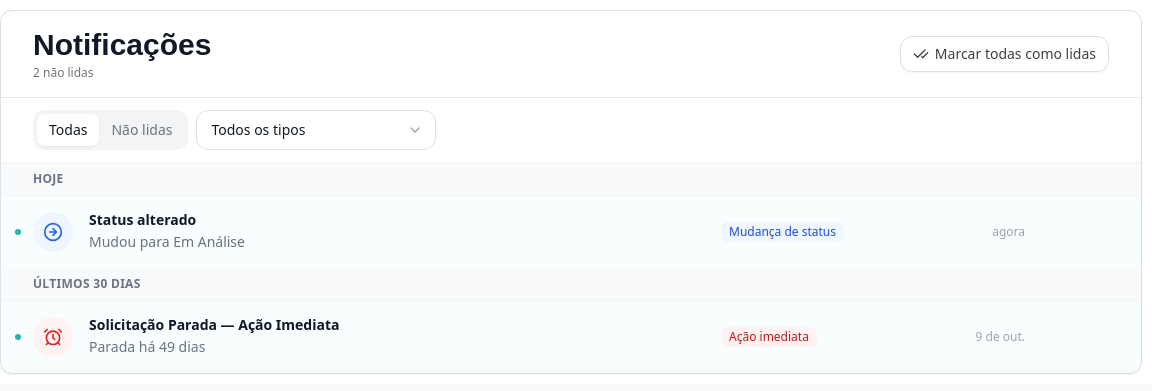
Central de notificações › filtra por solicitação parada
This screenshot has width=1152, height=391.
Expected: the text "Status alterado" is shown, [89,210,196,229]
Select "Solicitação parada" in the dropdown named "Filtrar por tipo": (316, 130) [196,110,436,150]
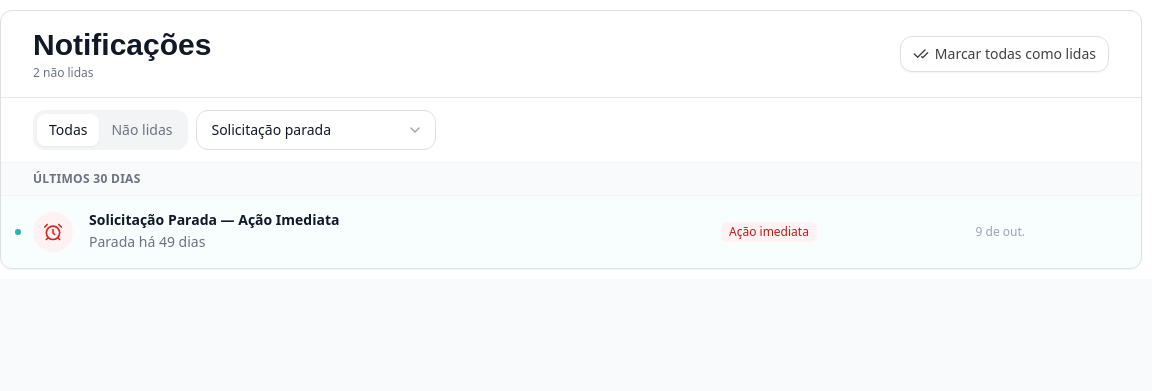
Expected: the text "Solicitação Parada — Ação Imediata" is shown, [89,210,340,229]
Now the link "Status alterado" is gone
